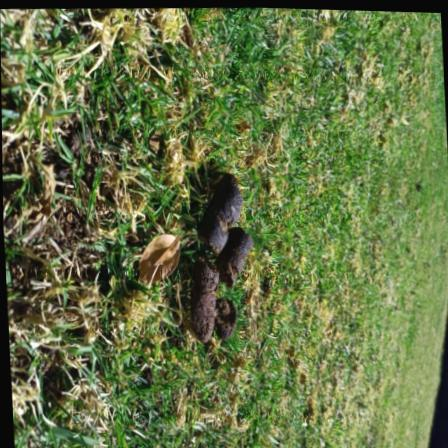dog-poop: (180, 165, 261, 344)
